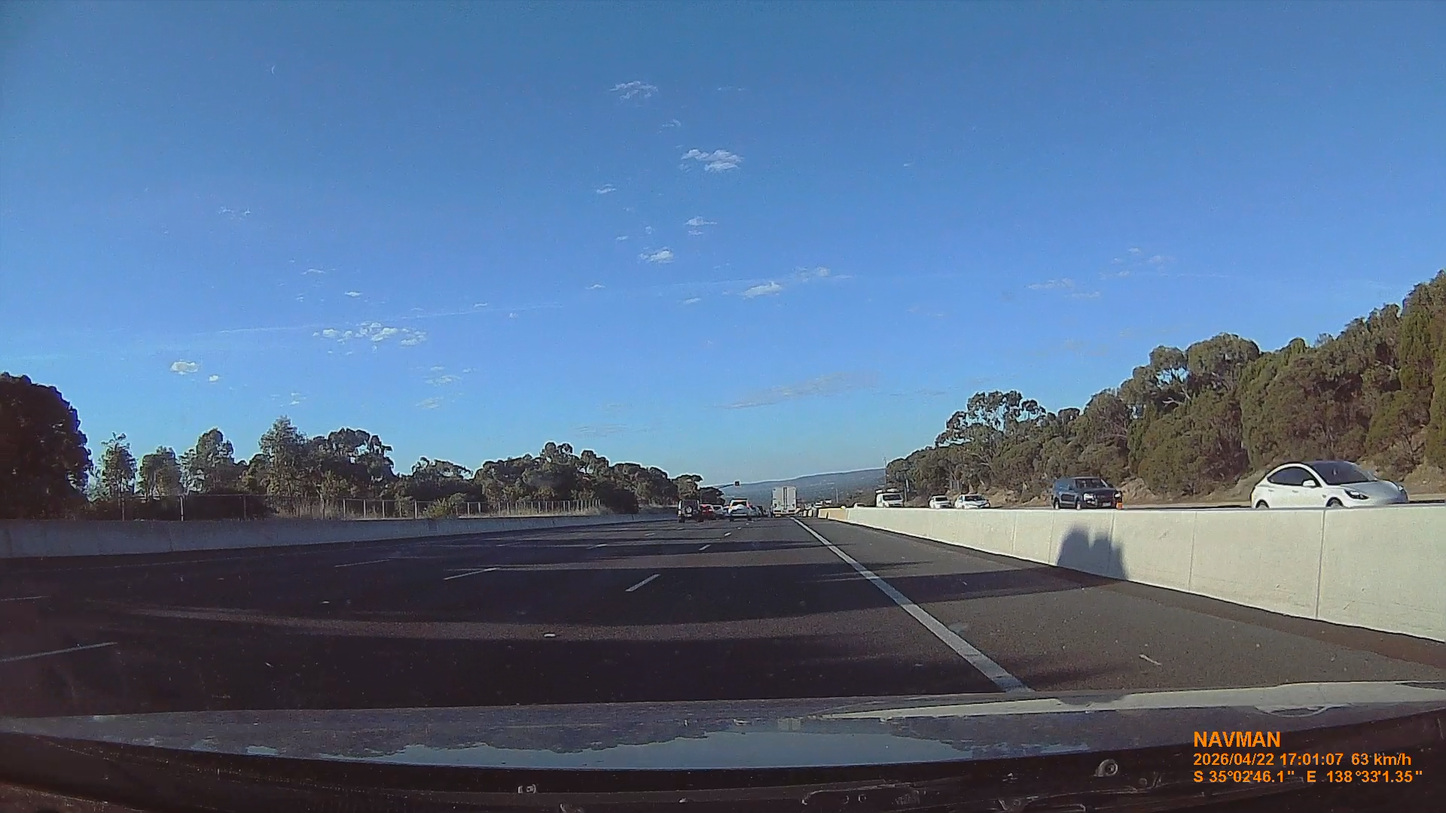fences: (340, 498, 408, 519), (521, 498, 599, 514), (451, 498, 484, 517), (413, 498, 421, 519)
road barriers: (821, 505, 1445, 641), (0, 515, 660, 559)
